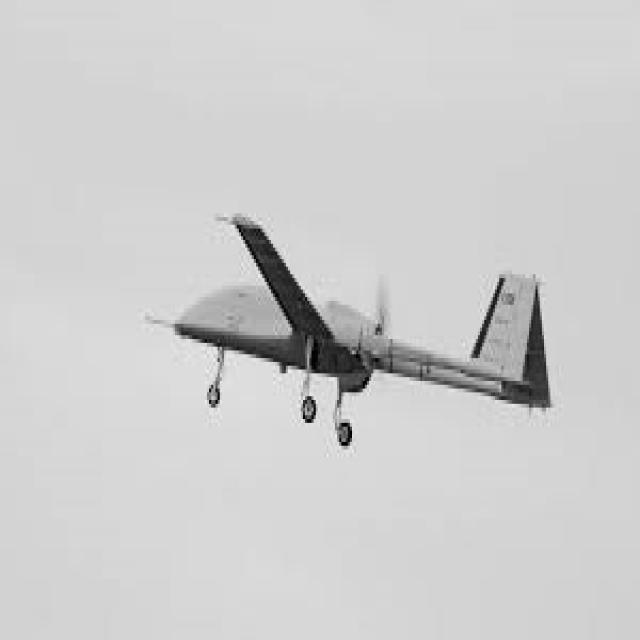iha: (147, 217, 548, 442)
